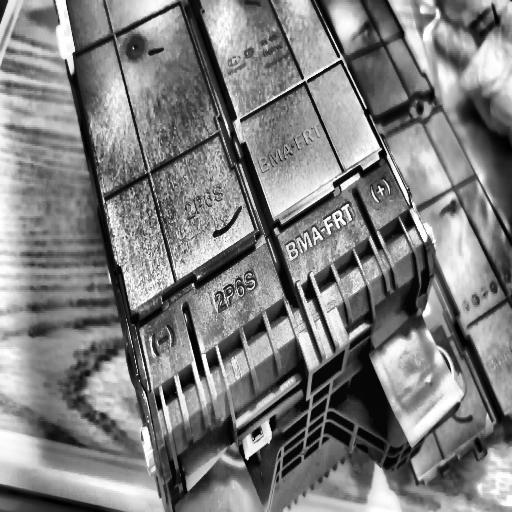battery_module: (56, 0, 436, 460)
